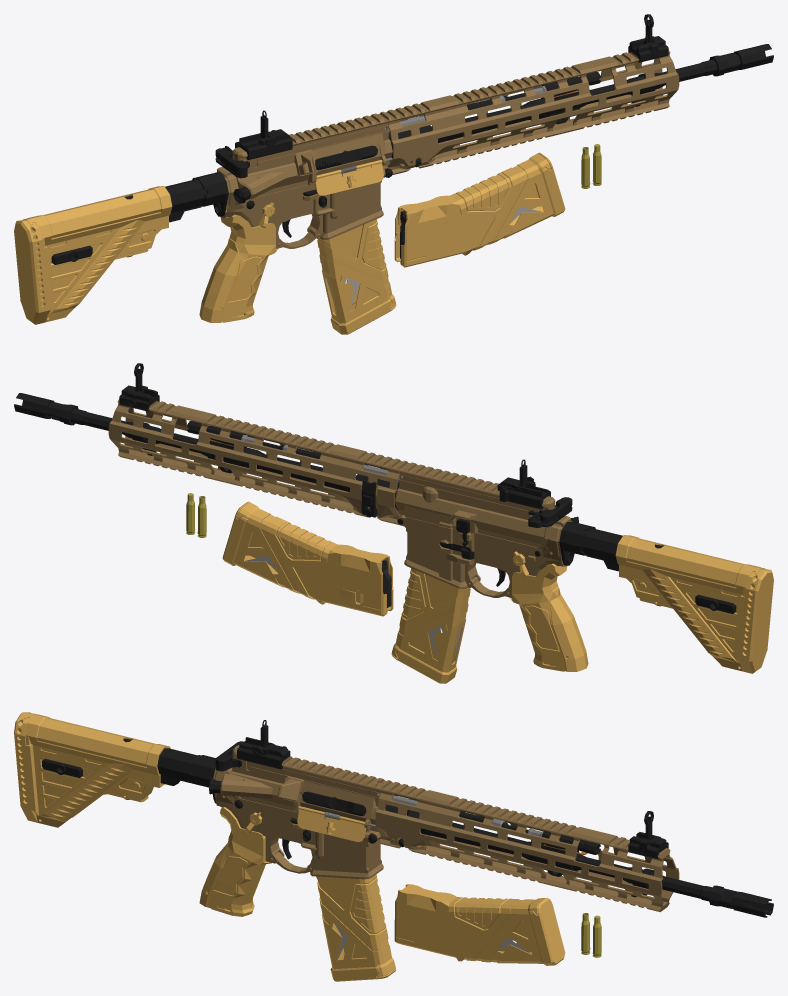
File: carabine.glb
3 renders of one model, top to bottom at view 1: azimuth 30°, elevation 25°; view 2: azimuth 150°, elevation 25°; view 3: azimuth 330°, elevation 25°, orthographic.
Bounding box in the file's own units: 8.96 × 2.77 × 0.7315.
